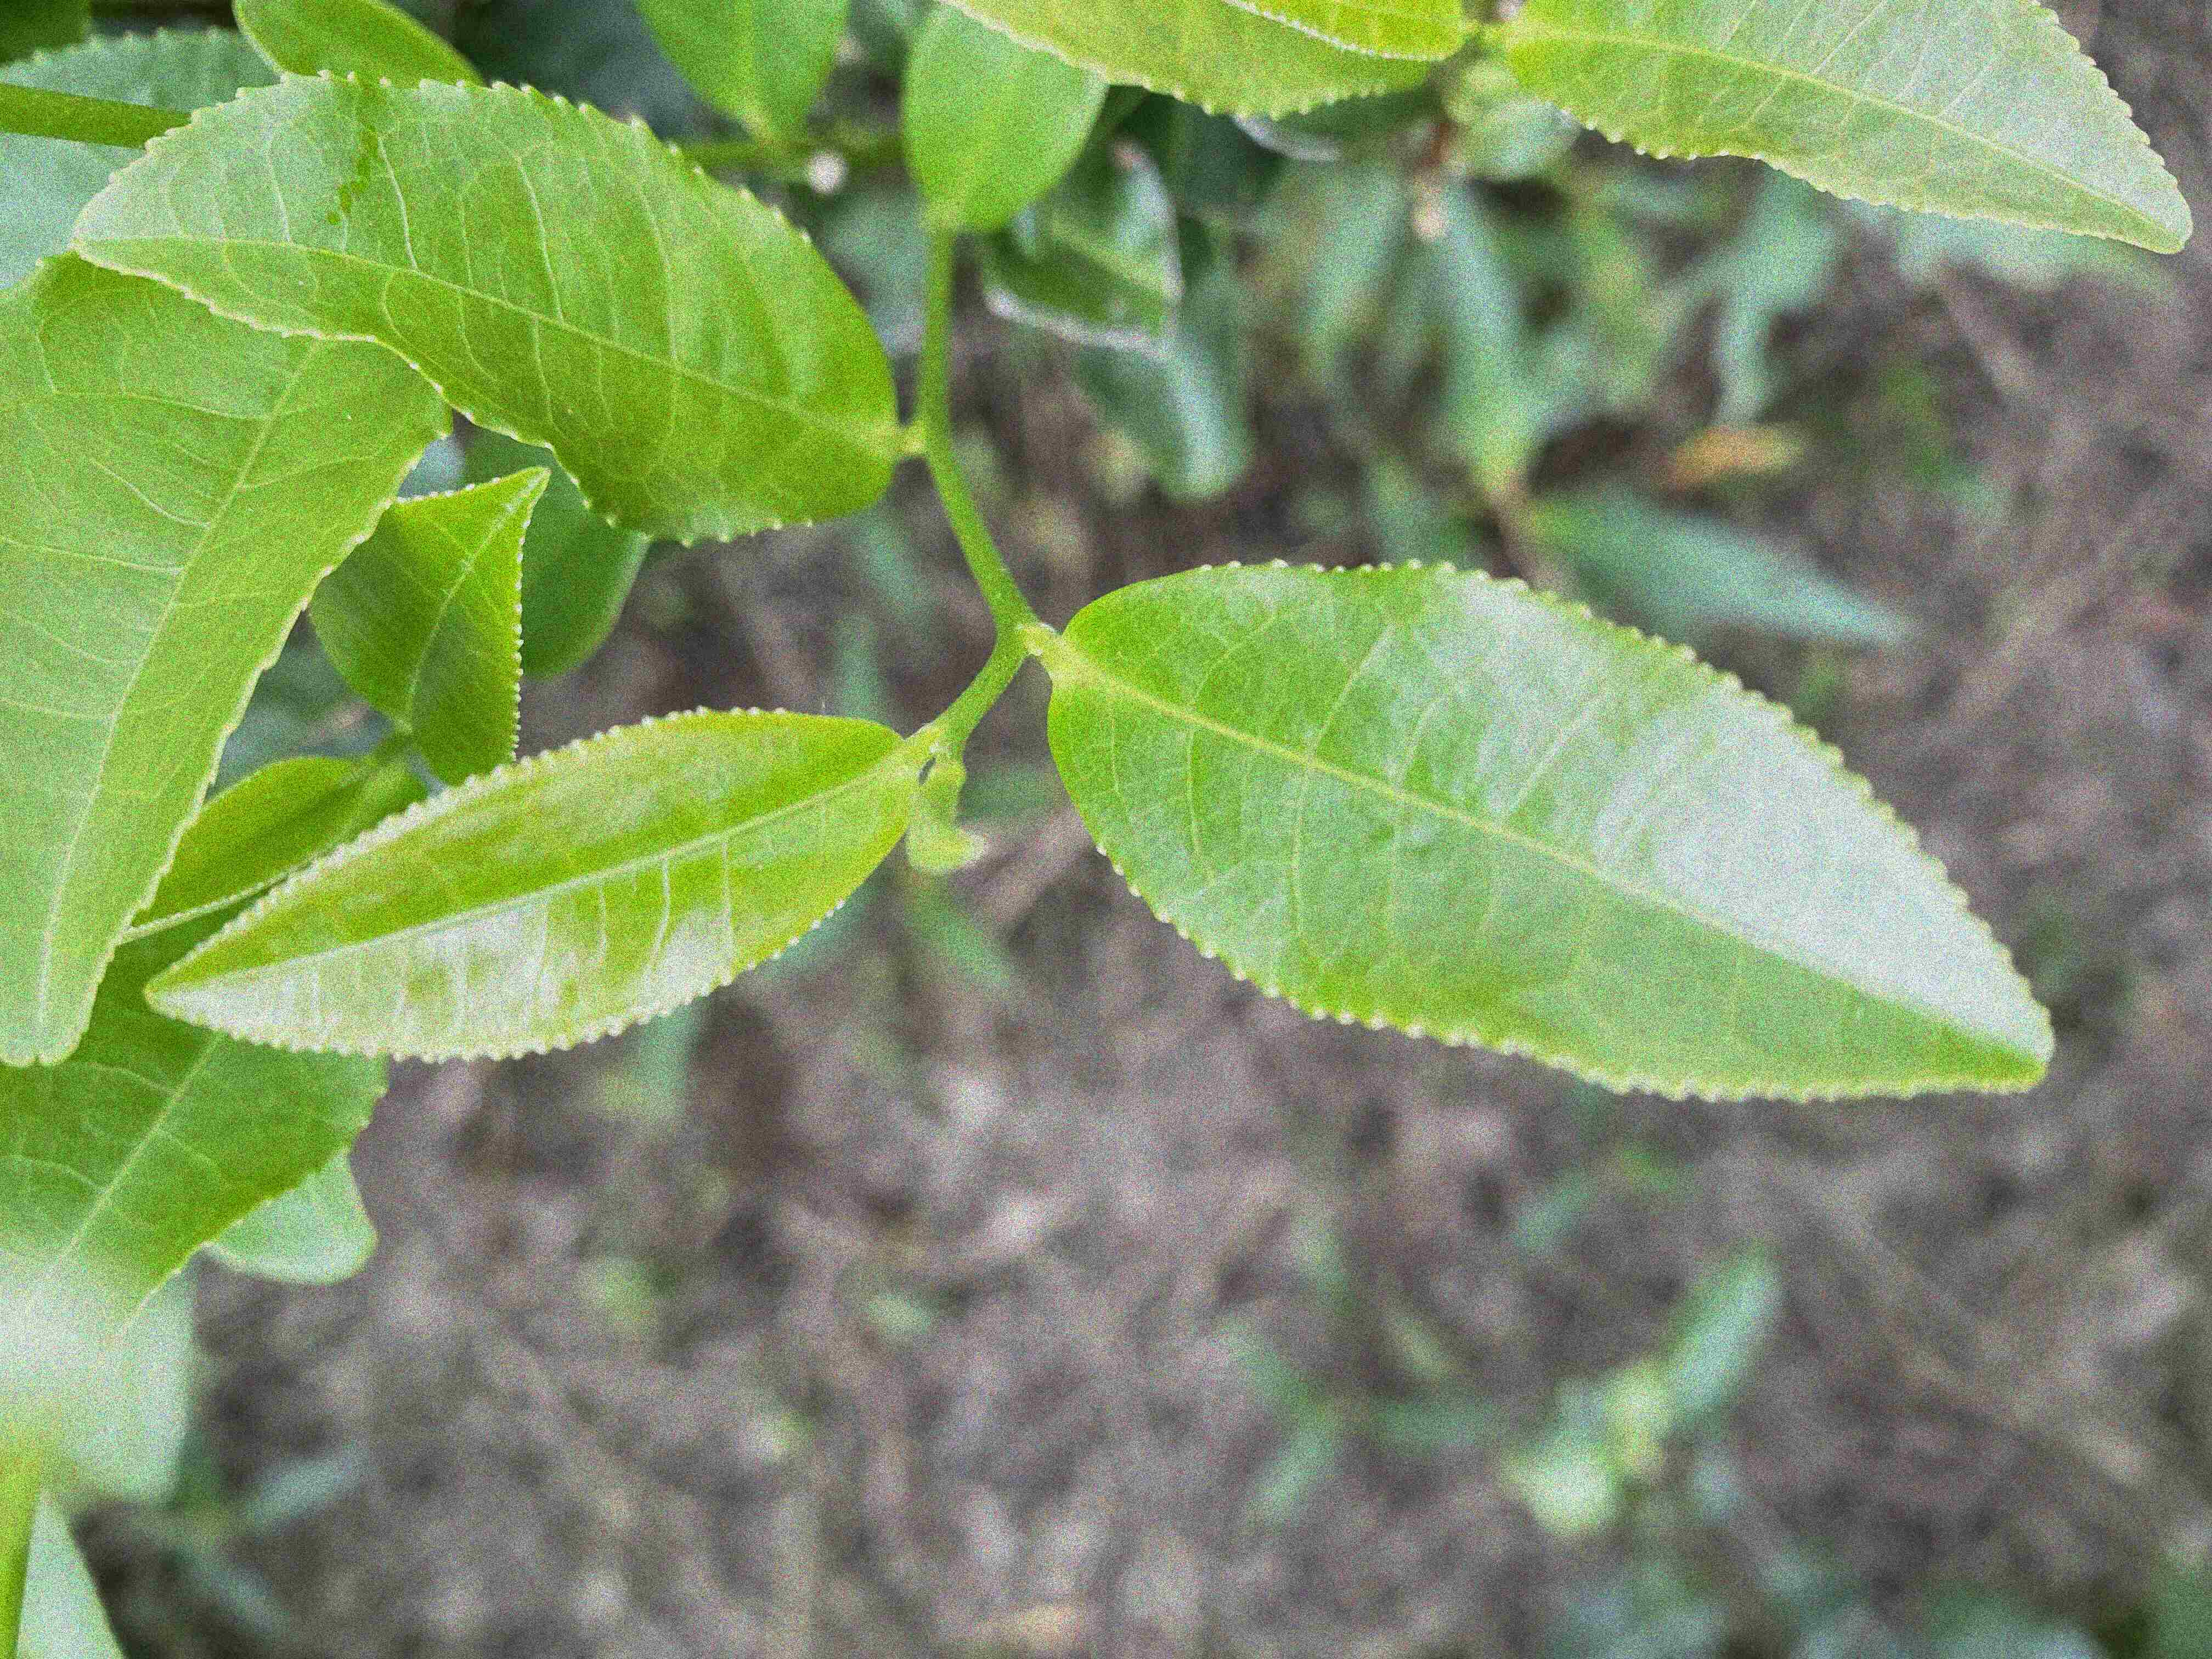healthy: (1049, 549, 2057, 1105), (73, 73, 899, 545), (143, 702, 914, 1060), (1507, 3, 2196, 260)
